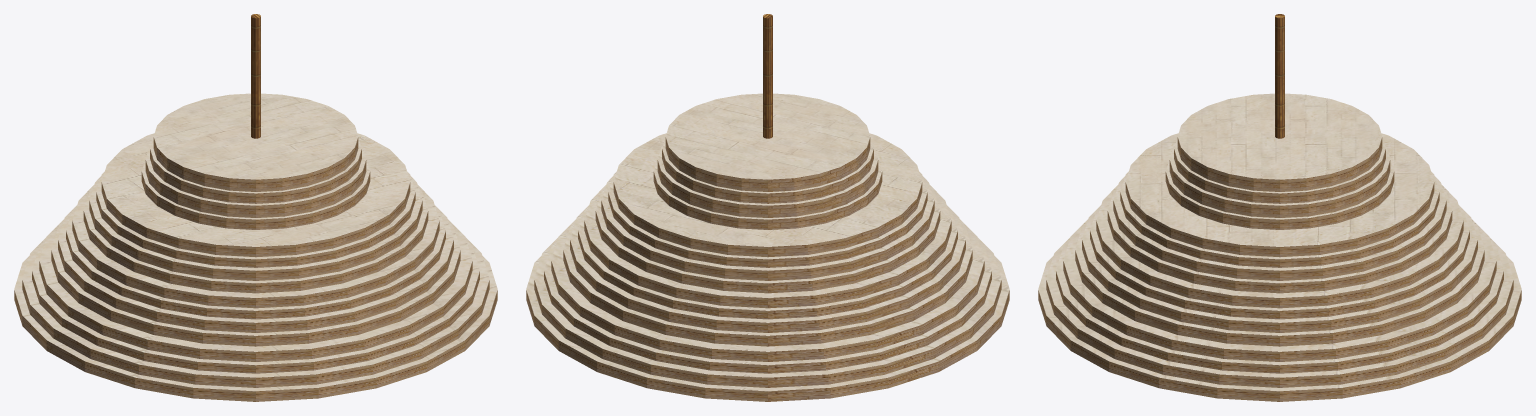
File: piramide1.dae
The picture shows the model from 3 angles, left to right: view 1: azimuth 30°, elevation 25°; view 2: azimuth 150°, elevation 25°; view 3: azimuth 270°, elevation 25°; orthographic projection.
Visible parts, largest first — view 1: piramide; view 2: piramide; view 3: piramide.
Boxes of the visible parts, <box> form: piramide: <box>14,14,497,401</box>; piramide: <box>526,14,1009,401</box>; piramide: <box>1038,14,1521,401</box>.
Bounding box in the file's own units: 44.27 × 44.27 × 28.66.
